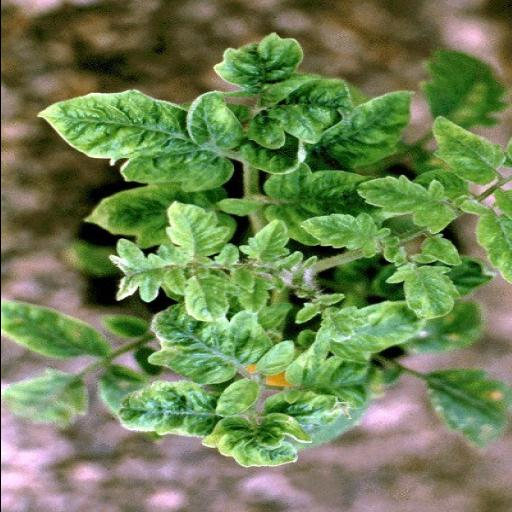Yellow Leaf Curl Virus: (24, 89, 242, 193), (142, 308, 268, 386), (301, 88, 413, 171), (348, 173, 462, 235), (0, 299, 112, 362), (106, 378, 218, 440), (332, 301, 428, 359), (150, 202, 233, 267), (384, 258, 460, 320), (299, 212, 393, 258), (178, 271, 232, 325), (211, 374, 260, 420), (240, 218, 290, 260), (256, 338, 298, 376)
